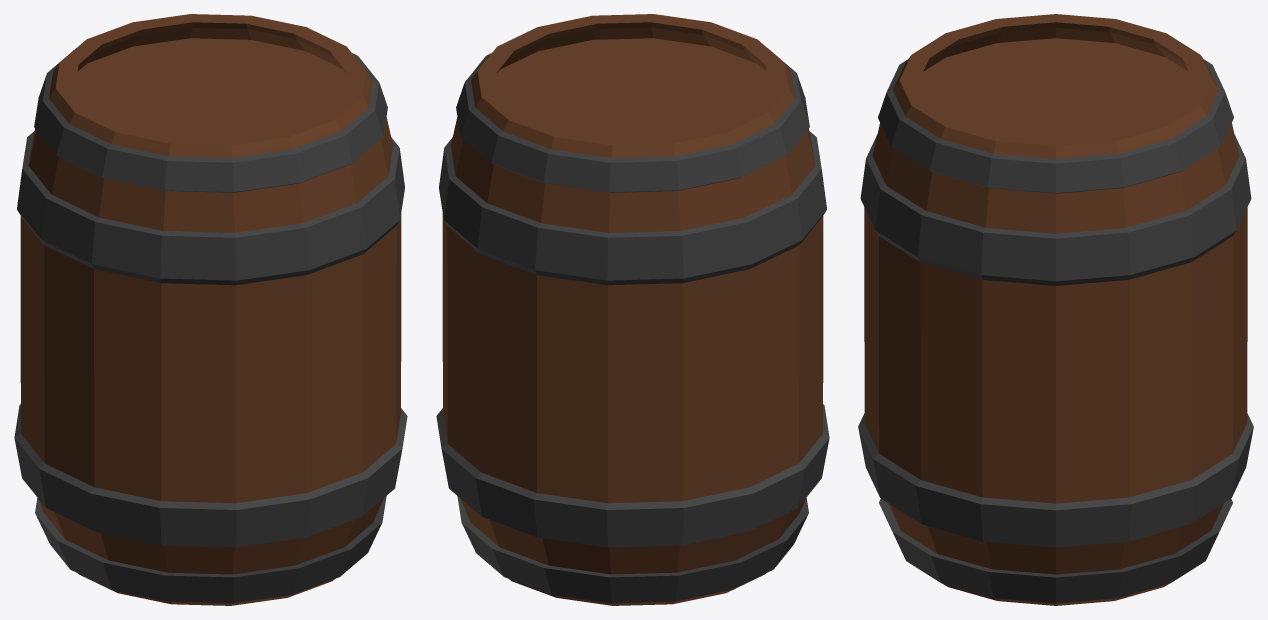
File: barrel01.obj
3 views of the same model, side by side, from view 1: azimuth 30°, elevation 25°; view 2: azimuth 150°, elevation 25°; view 3: azimuth 270°, elevation 25° (orthographic).
Parts seen in each view (by area): view 1: Cylinder_Cylinder.001; view 2: Cylinder_Cylinder.001; view 3: Cylinder_Cylinder.001.
Part boxes in pixels (x1=…): Cylinder_Cylinder.001: x1=14, y1=14, x2=407, y2=605; Cylinder_Cylinder.001: x1=436, y1=14, x2=829, y2=605; Cylinder_Cylinder.001: x1=858, y1=14, x2=1253, y2=605.
Size of the model in its own units: 0.6097 by 0.7839 by 0.6097.
